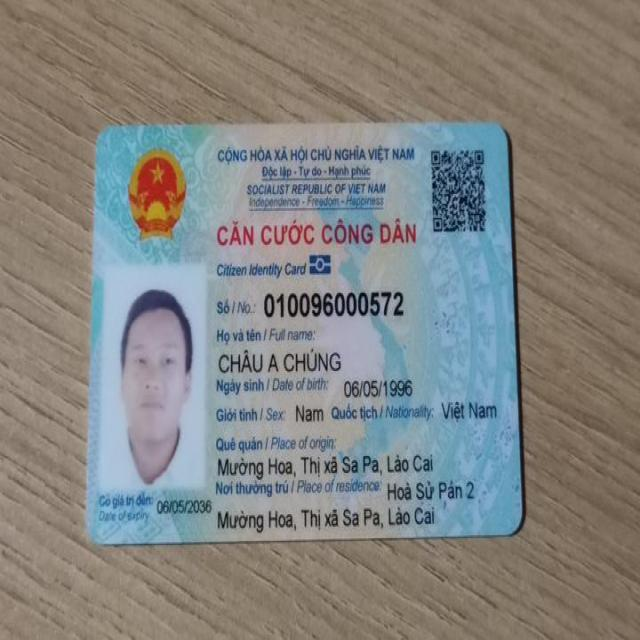bottom_left: (68, 508, 122, 561)
bottom_right: (495, 508, 542, 548)
image_person: (105, 266, 215, 495)
top_left: (86, 118, 122, 156)
top_right: (482, 108, 526, 148)
